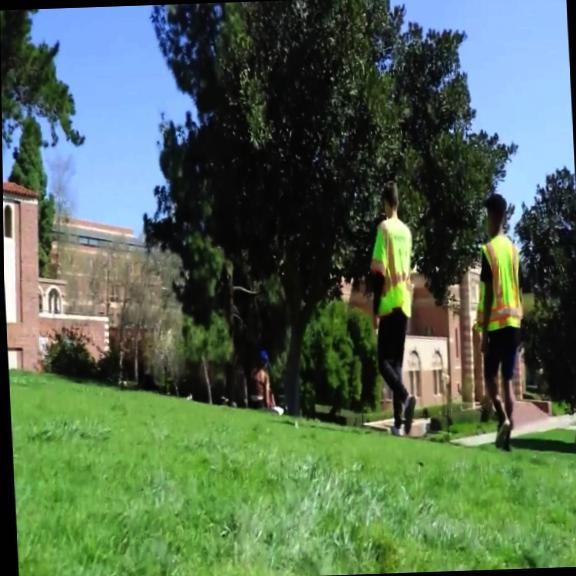safety_vest: (367, 216, 418, 319), (473, 233, 524, 331)
